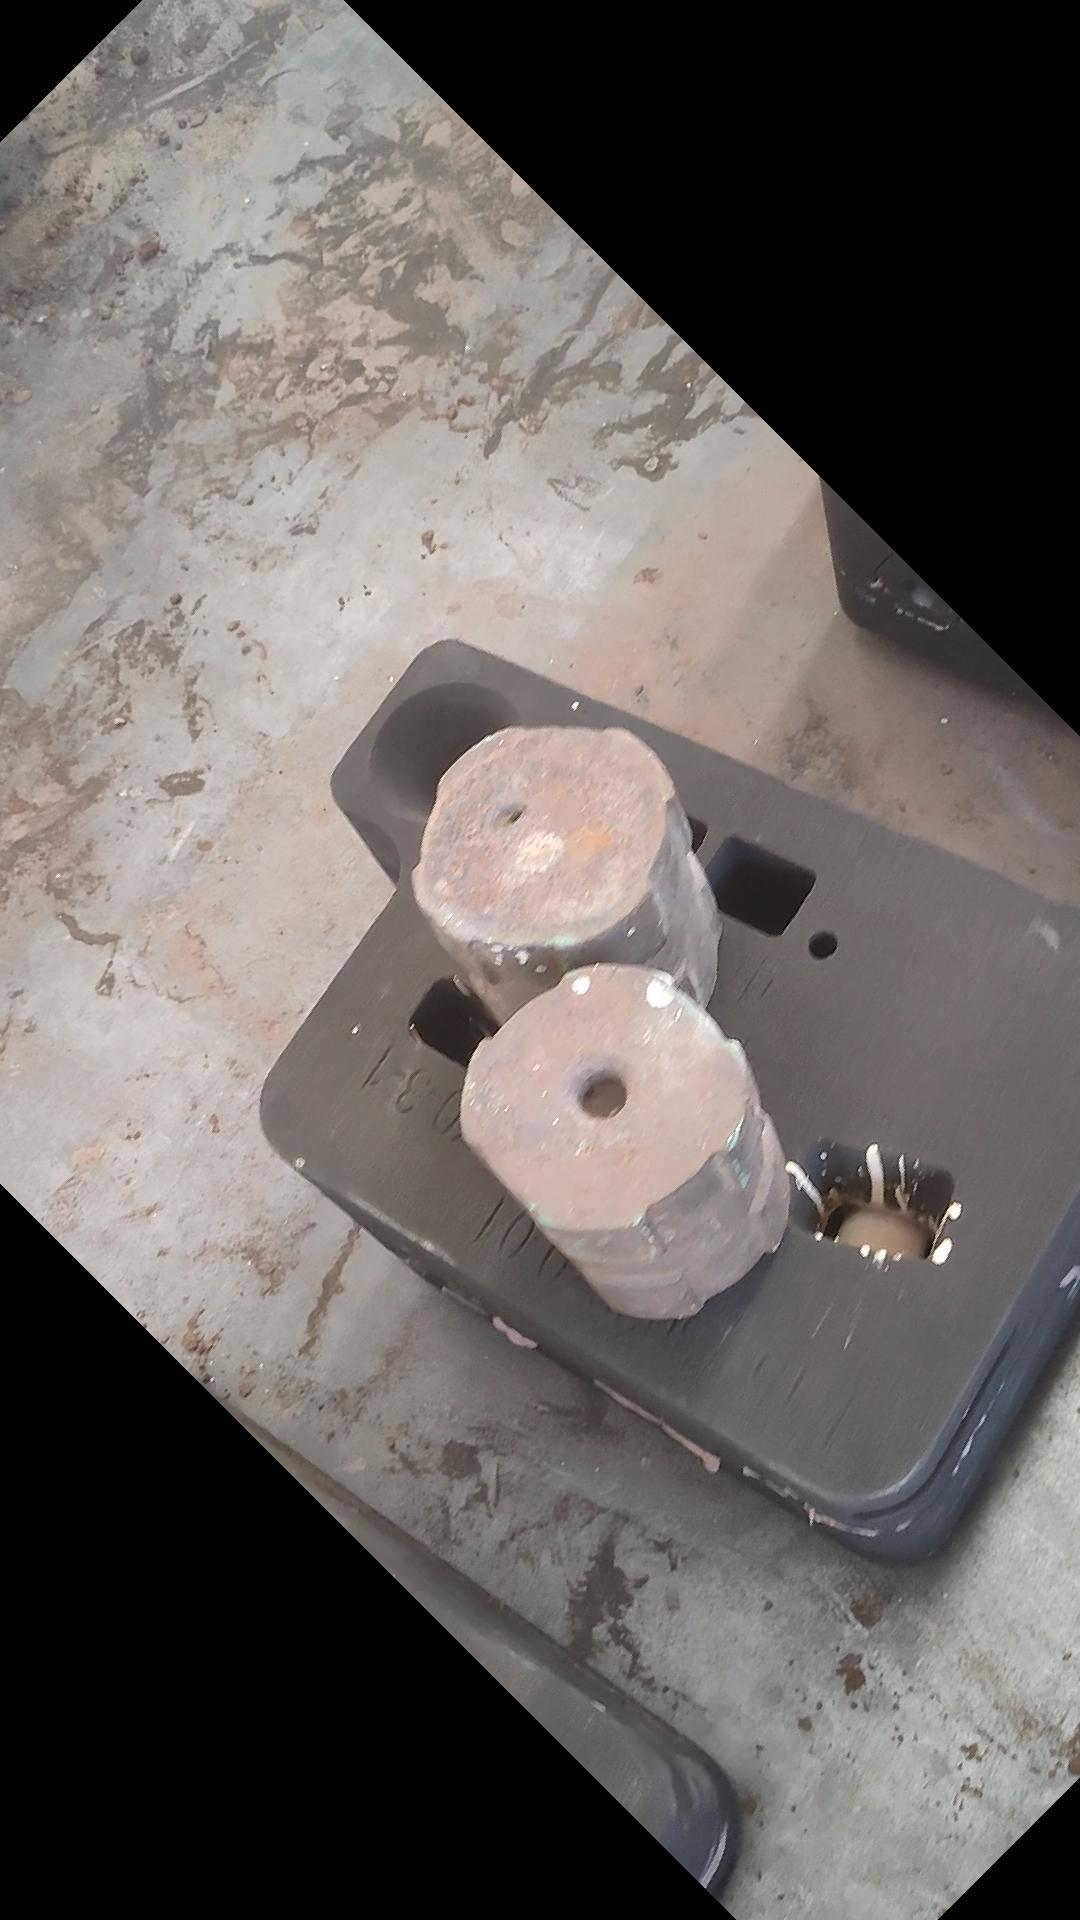pouring hole: (371, 684, 524, 819)
